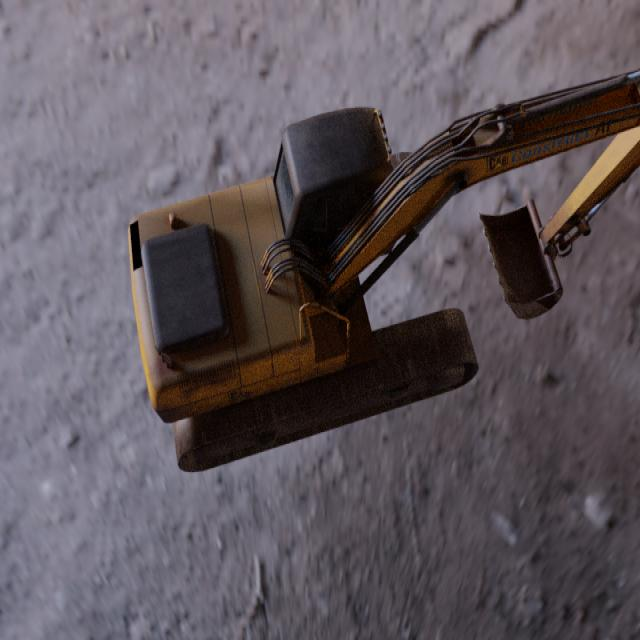excavator: (127, 67, 640, 472)
